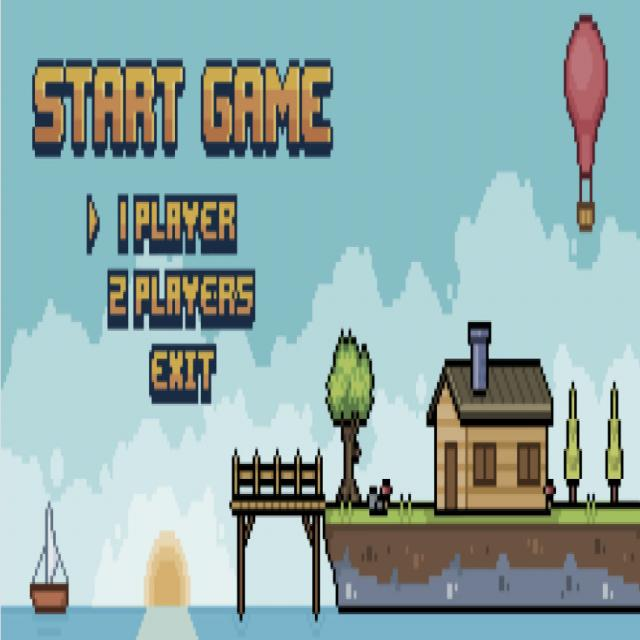Start-button: (25, 80, 342, 182)
